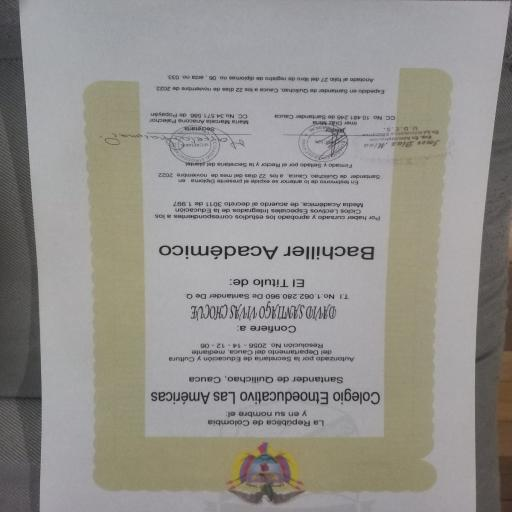bachillerato: (144, 236, 384, 268)
diploma: (18, 3, 509, 512)
escudo: (210, 443, 324, 509)
firma: (118, 103, 257, 159), (262, 110, 397, 156)
institucion: (138, 383, 391, 414)
